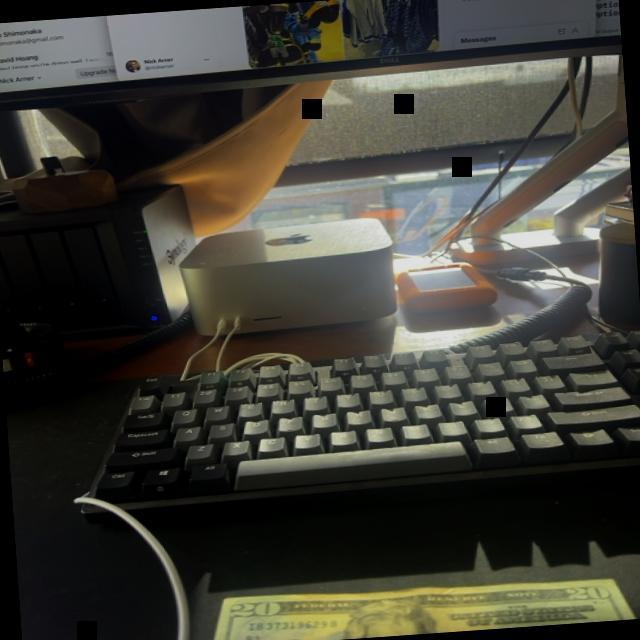twenty: (213, 576, 632, 640)
